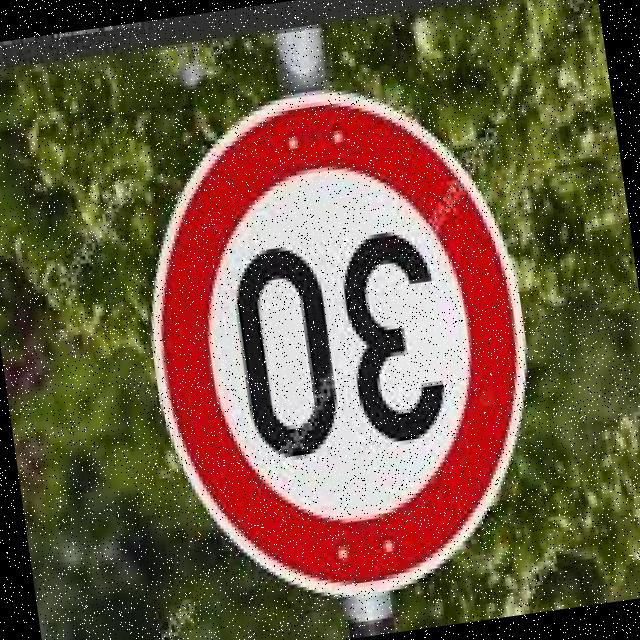speed_limit_30: (109, 68, 564, 635)
